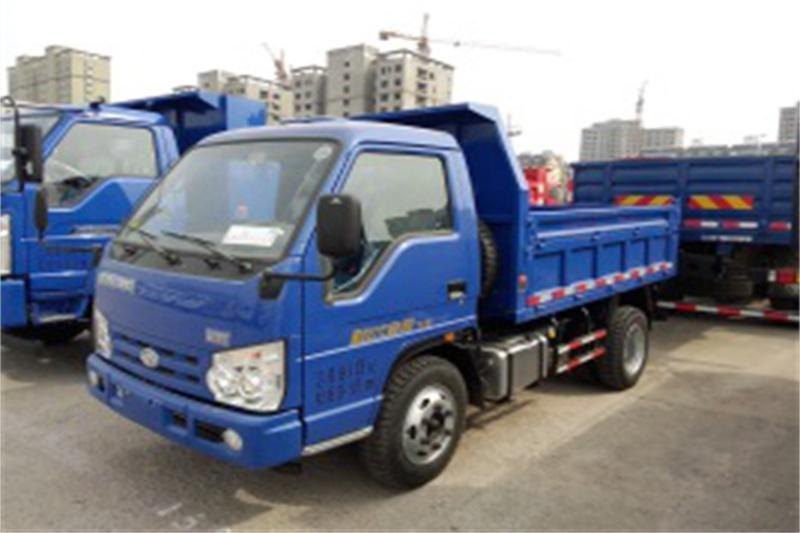truck: (83, 98, 683, 486)
